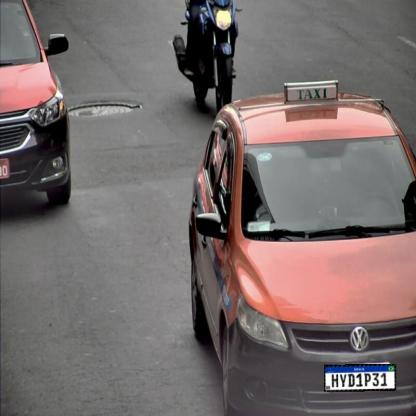PlacaM: (324, 364, 396, 392)
